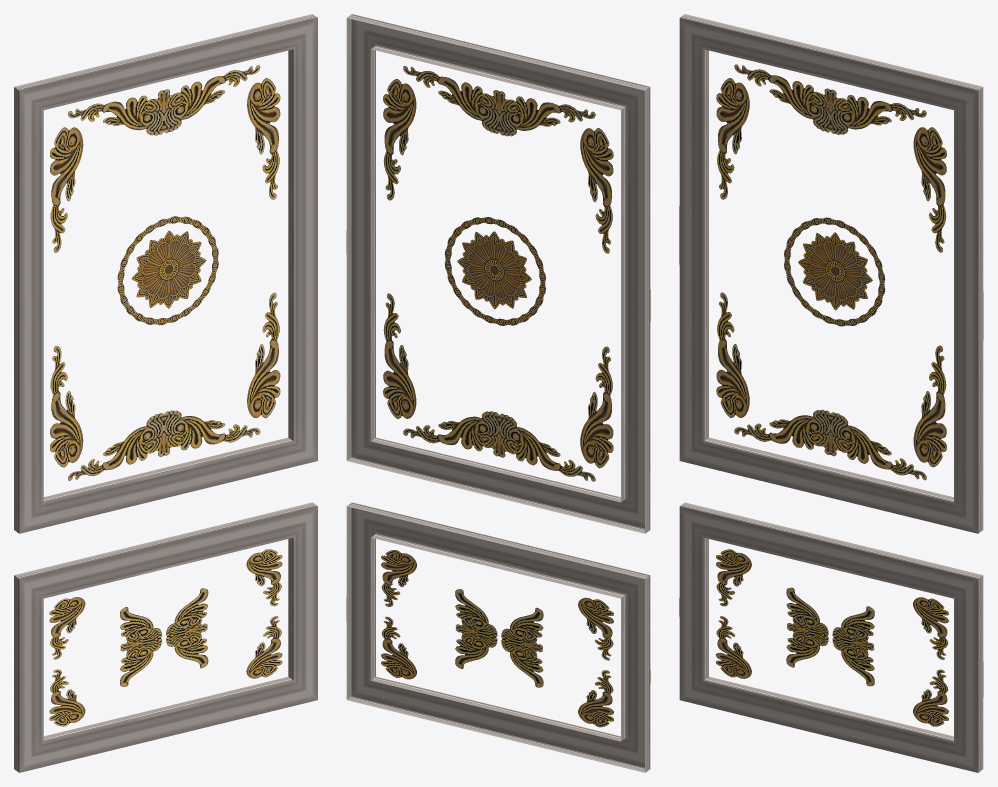
Rendered from Room02_WallB.FBX.
3 renders of one model, left to right at view 1: azimuth 30°, elevation 25°; view 2: azimuth 150°, elevation 25°; view 3: azimuth 330°, elevation 25°, orthographic.
Parts seen in each view (by area): view 1: Room02_WallB; view 2: Room02_WallB; view 3: Room02_WallB.
Part boxes in pixels (x1,y1,x2,y2): Room02_WallB: (14, 14, 317, 772); Room02_WallB: (346, 14, 650, 772); Room02_WallB: (679, 14, 983, 772).
Size of the model in its own units: 198 by 6.15 by 432.
